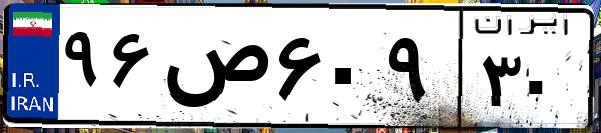0: (330, 28, 385, 110), (525, 38, 570, 115)
3: (475, 38, 525, 113)
6: (270, 28, 330, 110), (110, 28, 158, 98)
9: (385, 28, 445, 110), (57, 26, 110, 100)
ص: (158, 20, 270, 120)
